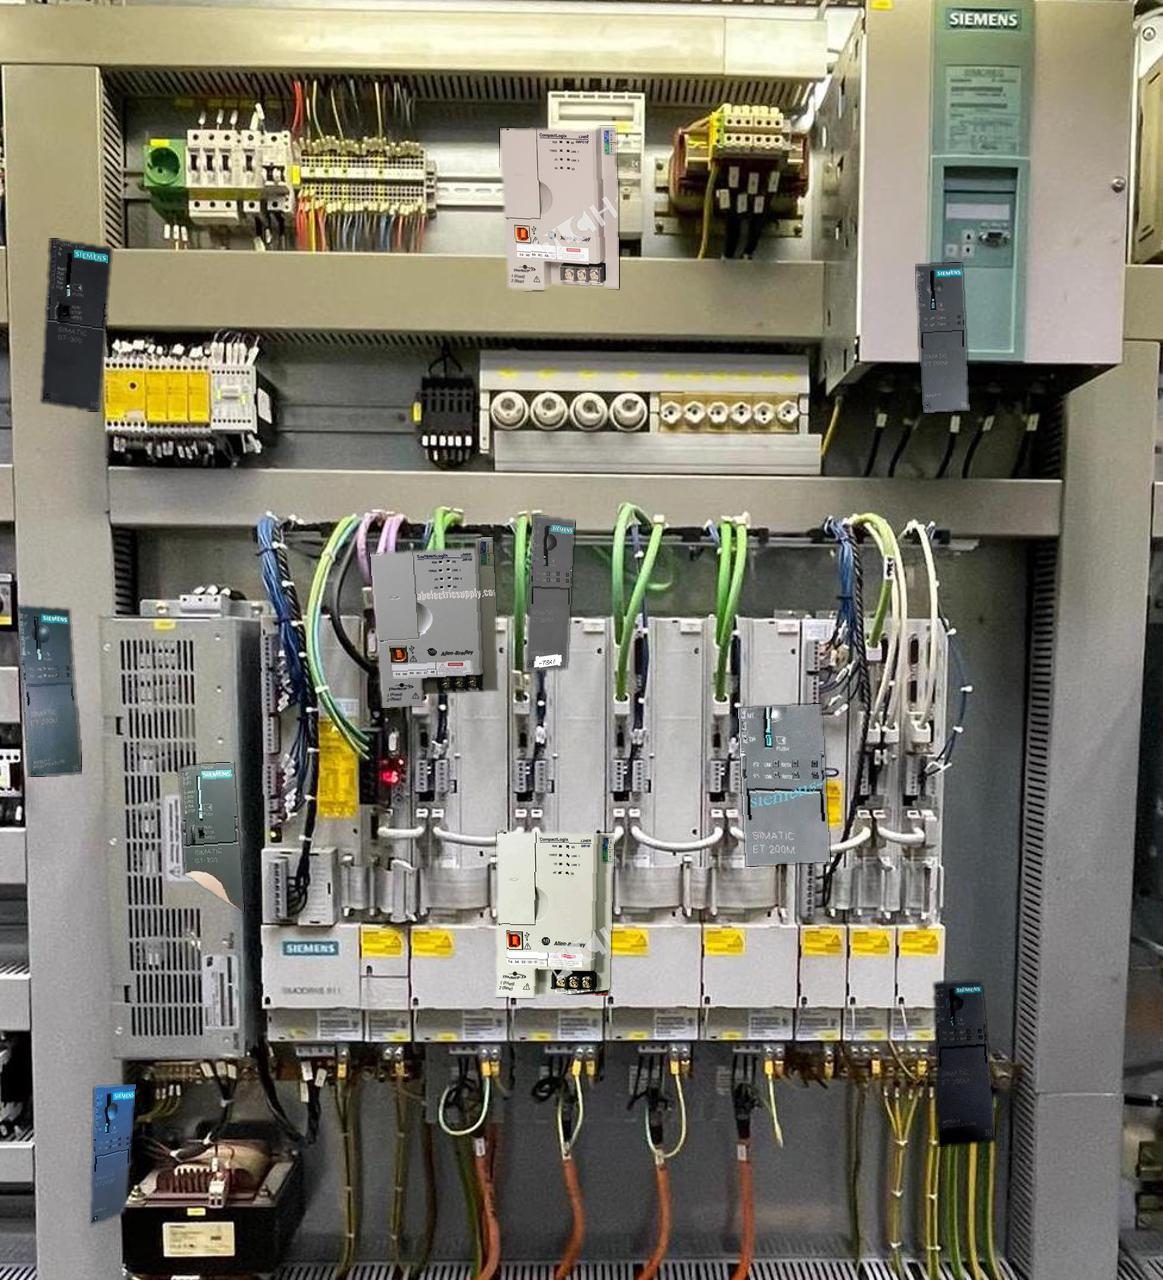AllenBradley: (370, 537, 498, 707), (496, 831, 613, 997), (500, 127, 618, 289)
Siemens: (41, 239, 112, 410), (180, 762, 243, 912)
